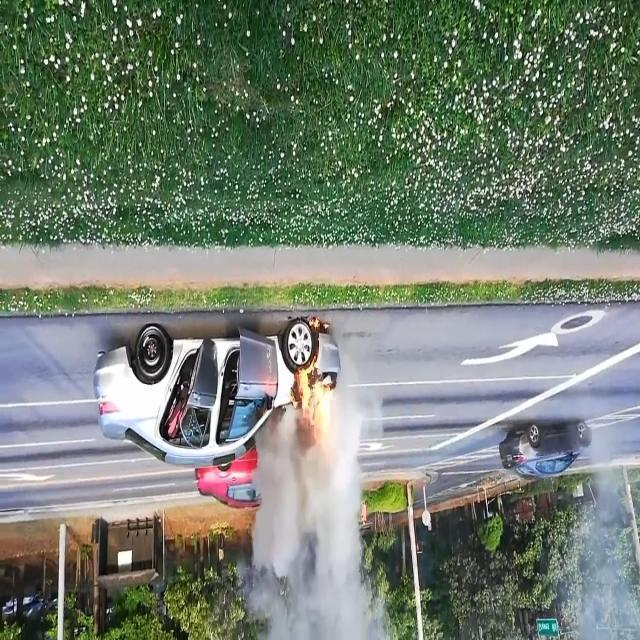fire: (282, 316, 344, 451)
